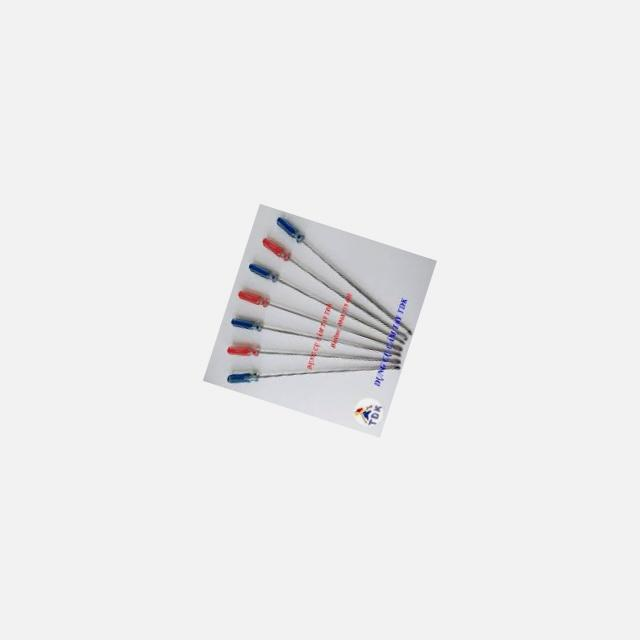screwdriver: (254, 215, 435, 338), (225, 316, 403, 432), (245, 234, 426, 342), (224, 306, 405, 407), (240, 258, 417, 346), (228, 299, 404, 379), (234, 287, 407, 353)
